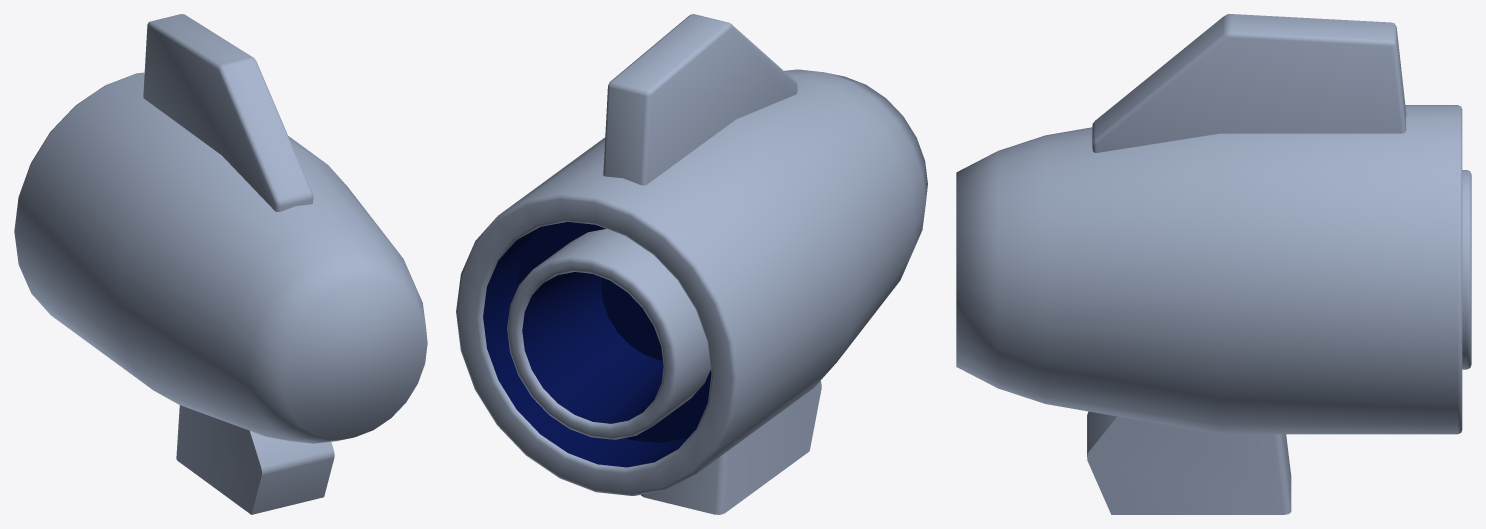
File: turbina.fbx
3 views of the same model, side by side, from view 1: azimuth 30°, elevation 25°; view 2: azimuth 150°, elevation 25°; view 3: azimuth 270°, elevation 25° (orthographic). The views are drawn at different scales.
Parts seen in each view (by area): view 1: spoiler3; view 2: spoiler3; view 3: spoiler3.
Part boxes in pixels (left/top/right/bottom): spoiler3: left=14, top=14, right=427, bottom=514; spoiler3: left=456, top=14, right=927, bottom=514; spoiler3: left=956, top=14, right=1471, bottom=514.
Bounding box in the file's own units: 0.7863 × 1.24 × 1.23.
